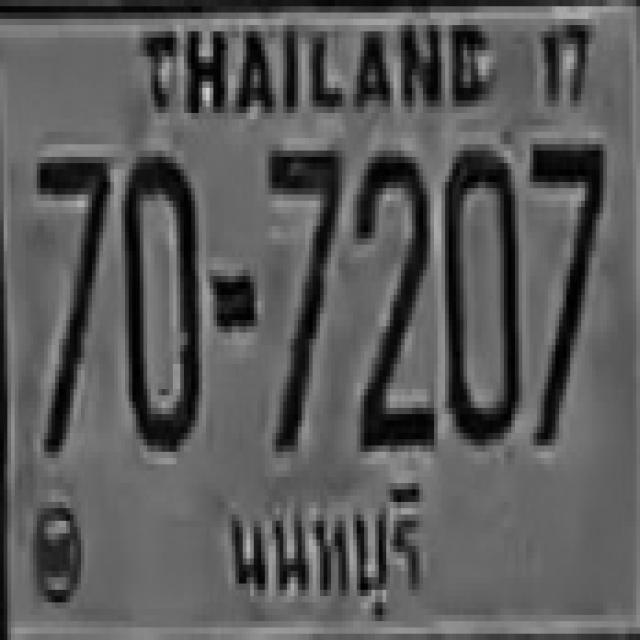0: (122, 150, 198, 446), (443, 144, 517, 440)
2: (355, 144, 432, 446)
7: (33, 150, 107, 452), (265, 144, 338, 446), (528, 138, 601, 439), (265, 144, 338, 364)
Nonthaburi: (218, 474, 426, 616)
